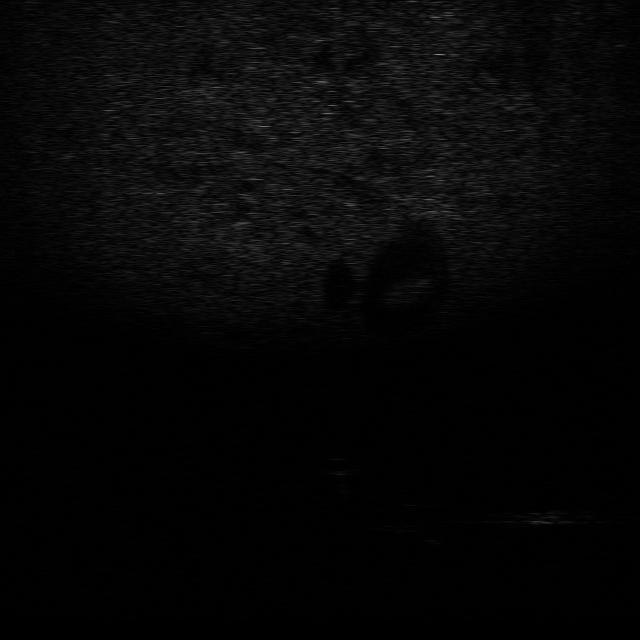ball: (321, 455, 360, 479)
metal bucket: (481, 500, 590, 528)
tyre: (368, 501, 442, 537)
